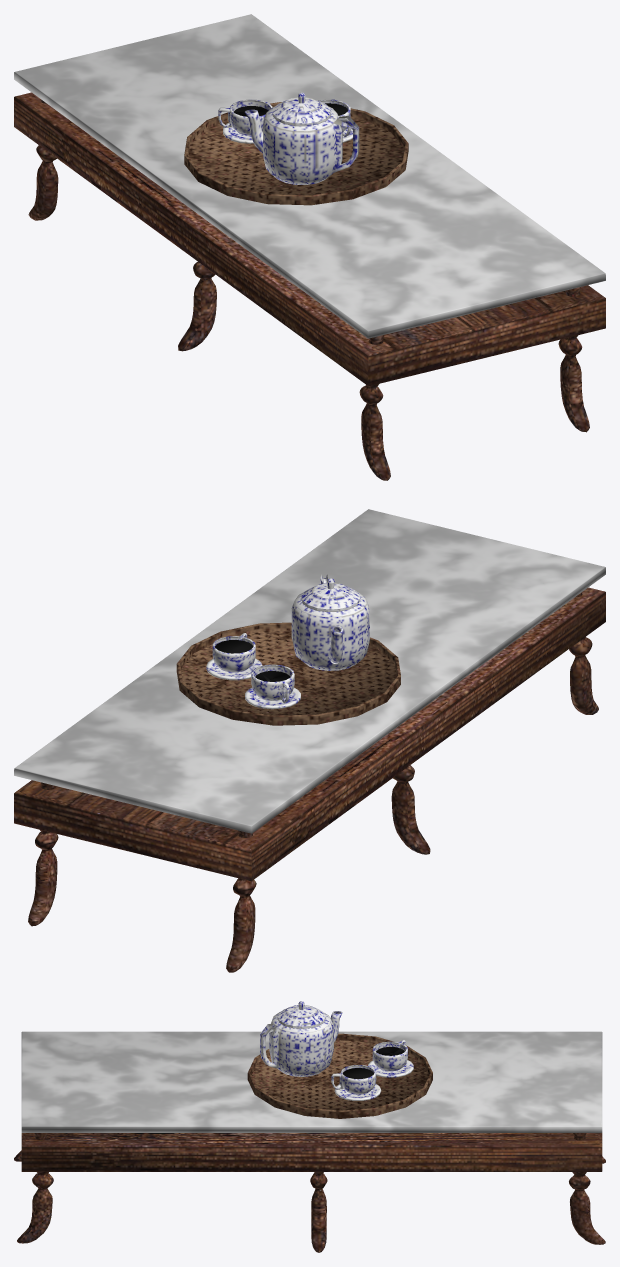
File: coffee table.fbx
The picture shows the model from 3 angles, top to bottom: view 1: azimuth 30°, elevation 25°; view 2: azimuth 150°, elevation 25°; view 3: azimuth 270°, elevation 25°; orthographic projection. The views are drawn at different scales.
Visible parts, largest first — view 1: Tea_stetting__1; view 2: Tea_stetting__1; view 3: Tea_stetting__1.
Boxes of the visible parts, x1=… form: Tea_stetting__1: x1=14, y1=14, x2=605, y2=480; Tea_stetting__1: x1=14, y1=509, x2=605, y2=972; Tea_stetting__1: x1=14, y1=1001, x2=605, y2=1252.
Bounding box in the file's own units: 63.88 × 57.85 × 158.
